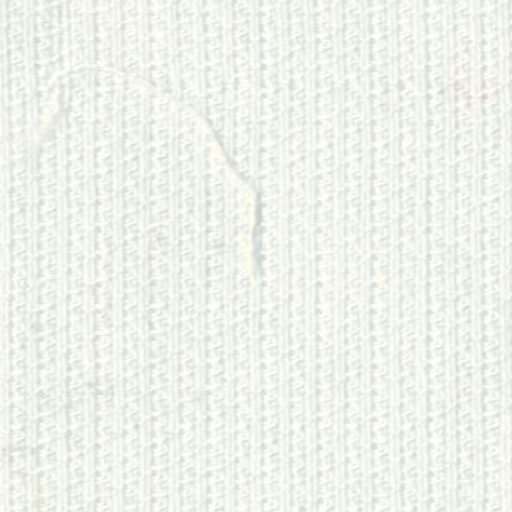DuanSha: (36, 56, 274, 278)
